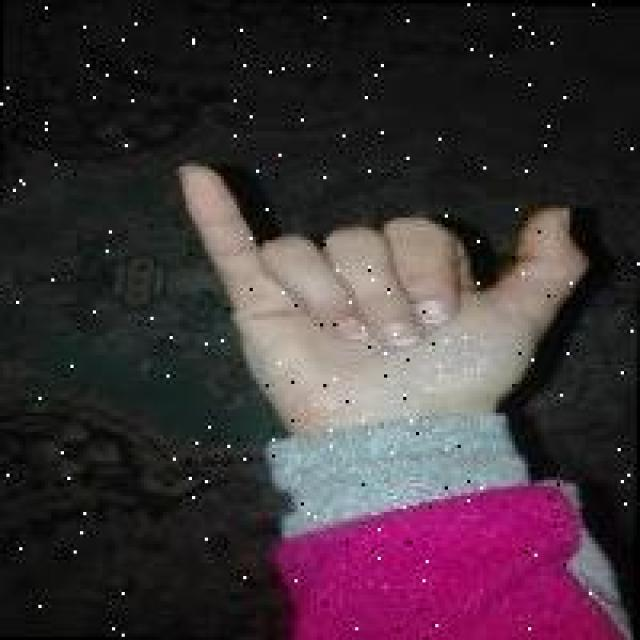Y: (173, 152, 592, 427)
